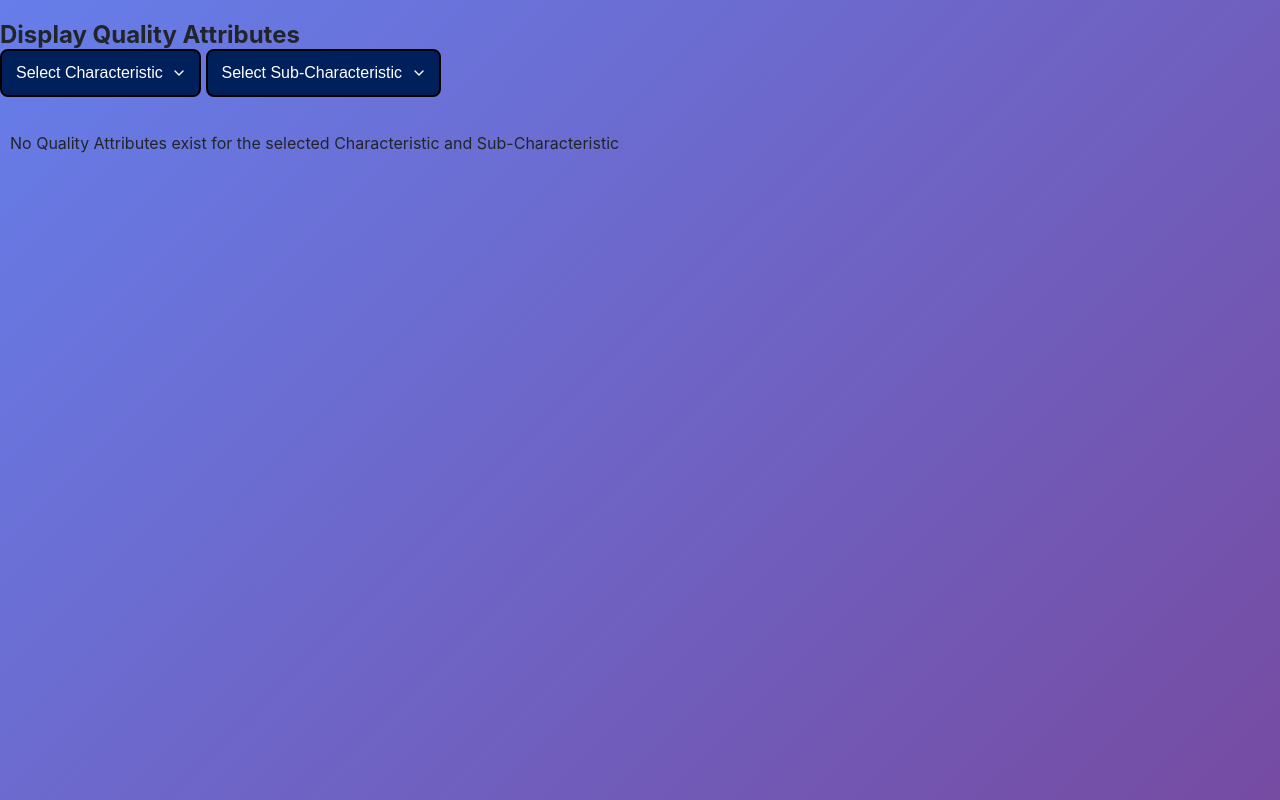
Scenario: Requirements › pick a subCharacteristic
The width and height of the screenshot is (1280, 800).
Select "Performance" in the 1st dropdown. click: (100, 73)
box: [0,49,201,97]
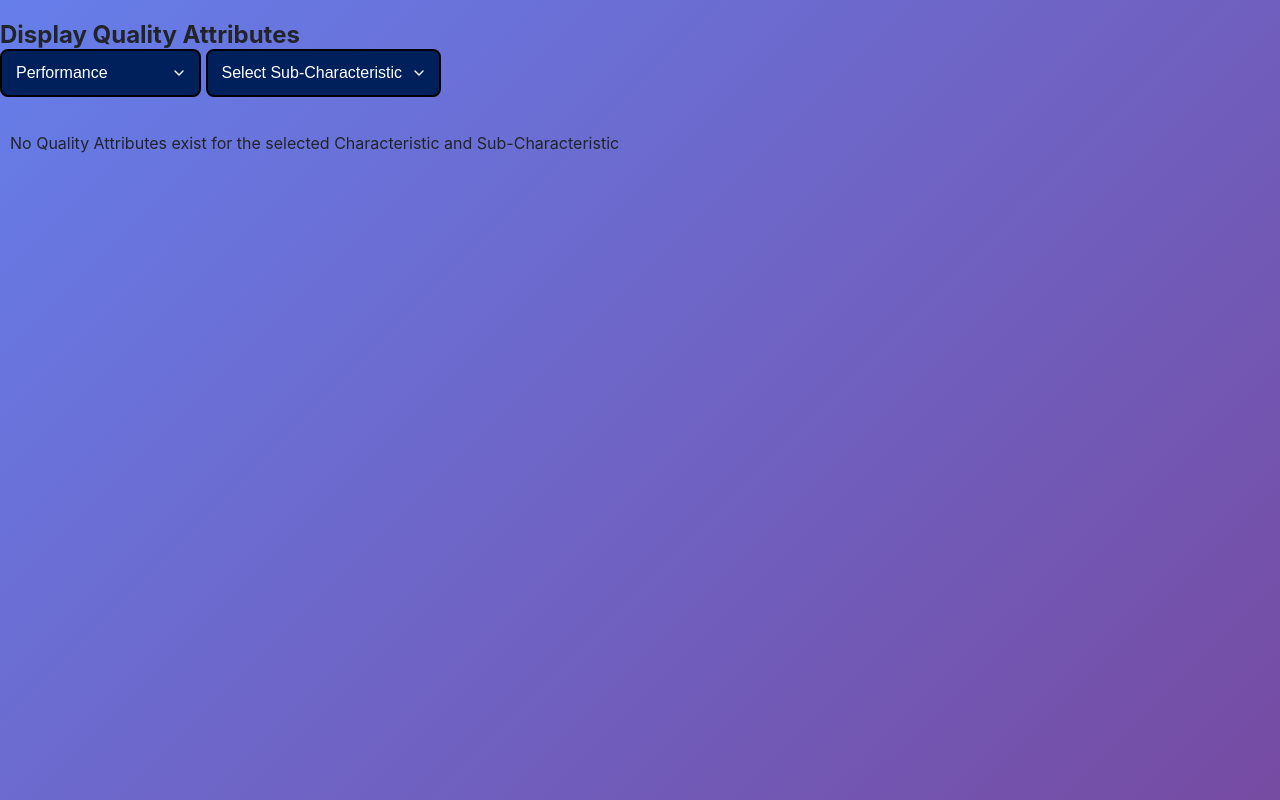
Select "Time Behaviour" in the 2nd dropdown. click: (323, 73)
box: [206,49,440,97]
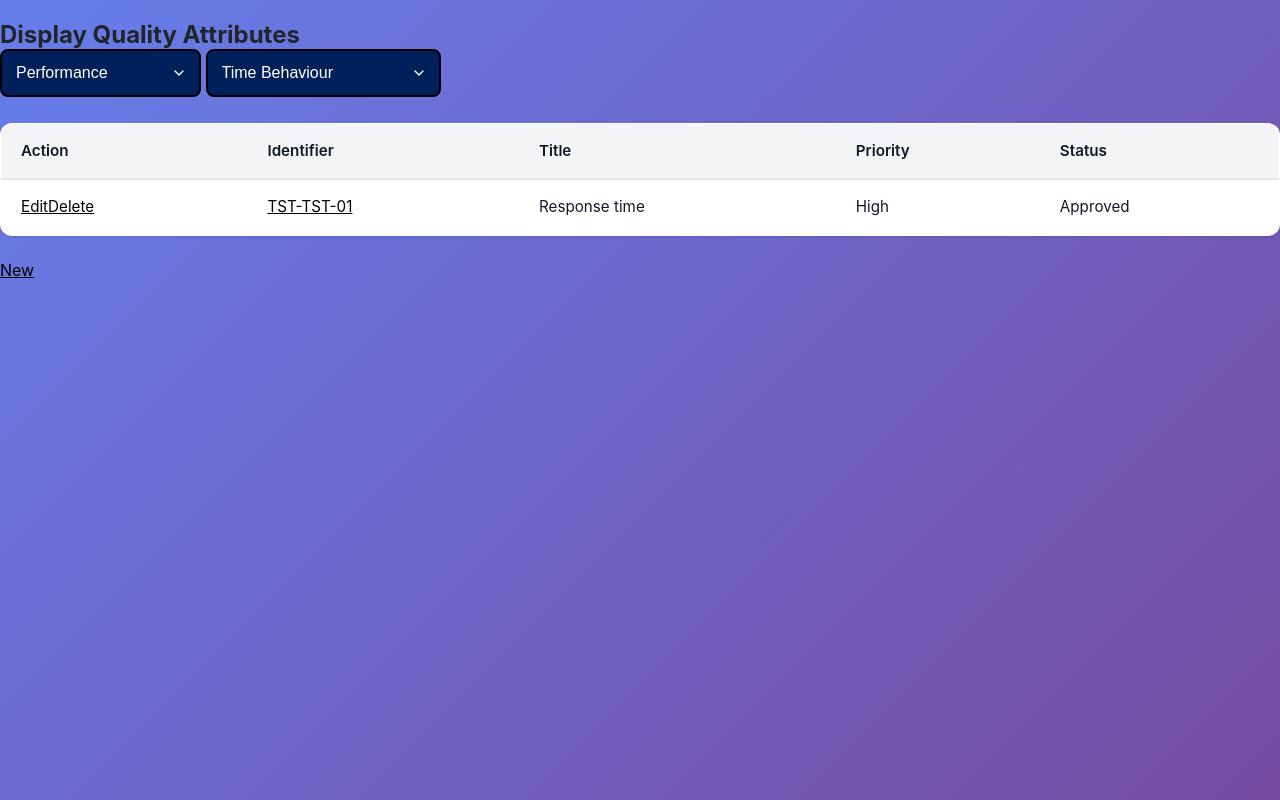
Now the text "Response time" is shown, box [519,179,836,236]
Now the text "High" is shown, box [836,179,1040,236]
Now the text "Approved" is shown, box [1040,179,1279,236]
